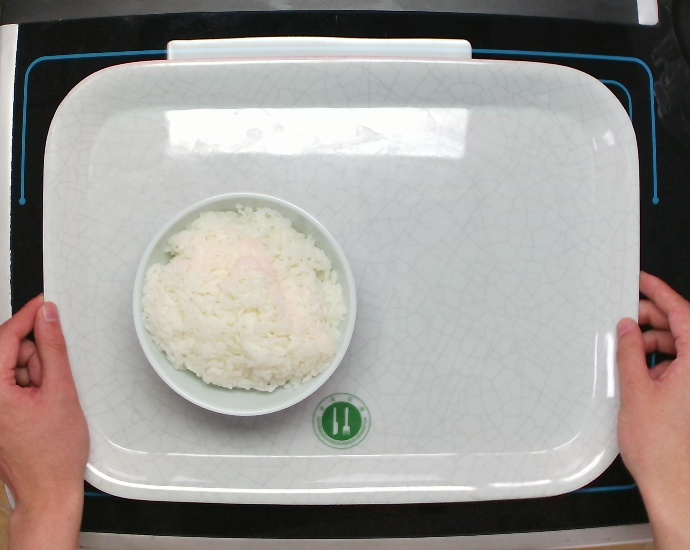JYsf-Fan_Wan: (129, 189, 360, 419)
